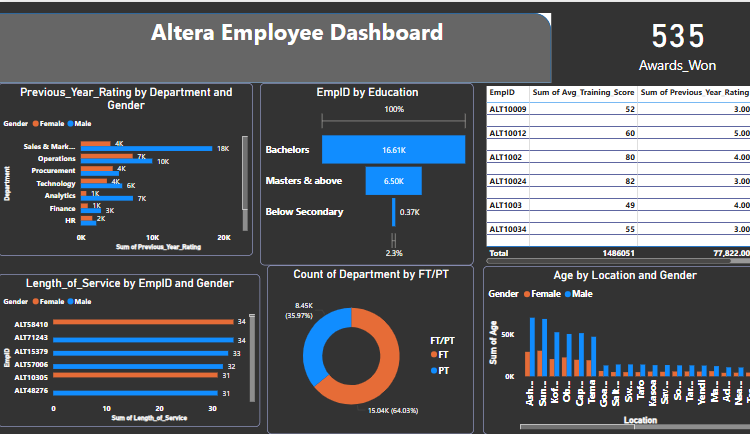

What the dashboard file says about the page in this screenshot:
{"tool":"powerbi","page":{"name":"Page 2","canvas":[1280,720],"ordinal":1},"visuals":[{"type":"shape","box":[0,18,922,116],"z":0},{"type":"clusteredBarChart","title":"Previous_Year_Rating by Department and Gender","fields":{"Category":["Altera_Emp_Data.Department"],"Y":["Sum(Altera_Emp_Data.Previous_Year_Rating)"],"Series":["Altera_Emp_Data.Gender"]},"box":[0,135,425,288.3],"z":1000},{"type":"clusteredBarChart","title":"Length_of_Service by EmpID and Gender","fields":{"Category":["Altera_Emp_Data.EmpID"],"Y":["Sum(Altera_Emp_Data.Length_of_Service)"],"Series":["Altera_Emp_Data.Gender"]},"box":[0,453.3,436.7,255],"z":2000},{"type":"funnel","title":" EmpID by Education","fields":{"Y":["CountNonNull(Altera_Emp_Data.EmpID)"],"Category":["Altera_Emp_Data.Education"]},"box":[436.7,134.4,356.1,304],"z":3000},{"type":"donutChart","fields":{"Category":["Altera_Emp_Data.FT/PT"],"Y":["CountNonNull(Altera_Emp_Data.Department)"]},"box":[448.3,438.3,345,281.7],"z":4000},{"type":"tableEx","fields":{"Values":["Altera_Emp_Data.EmpID","Sum(Altera_Emp_Data.Avg_Training_Score)","Sum(Altera_Emp_Data.Previous_Year_Rating)","Altera_Emp_Data.Gender"]},"box":[808,134.4,472,305.7],"z":5000},{"type":"clusteredColumnChart","title":" Age by Location and Gender","fields":{"Y":["Sum(Altera_Emp_Data.Age)"],"Category":["Altera_Emp_Data.Location"],"Series":["Altera_Emp_Data.Gender"]},"box":[808,440.1,472,280.5],"z":6000},{"type":"textbox","box":[100,18,798,92],"z":6001},{"type":"card","fields":{"Values":["Sum(Altera_Emp_Data.Awards_Won)"]},"box":[1004,6,258,116],"z":6002}]}

Visuals, with their boxes in screenshot pixels (x1, y1, x2, y2), scaled from the page's 1280x720 canvas onto the 750x434 screenshot:
shape: detection(0, 11, 540, 81)
"Previous_Year_Rating by Department and Gender" clusteredBarChart: detection(0, 81, 249, 255)
"Length_of_Service by EmpID and Gender" clusteredBarChart: detection(0, 273, 256, 427)
" EmpID by Education" funnel: detection(256, 81, 465, 264)
donutChart - Altera_Emp_Data.FT/PT x CountNonNull(Altera_Emp_Data.Department): detection(263, 264, 465, 433)
tableEx - Altera_Emp_Data.EmpID x Sum(Altera_Emp_Data.Avg_Training_Score): detection(473, 81, 749, 265)
" Age by Location and Gender" clusteredColumnChart: detection(473, 265, 749, 433)
textbox: detection(59, 11, 526, 66)
card - Sum(Altera_Emp_Data.Awards_Won): detection(588, 4, 739, 74)
